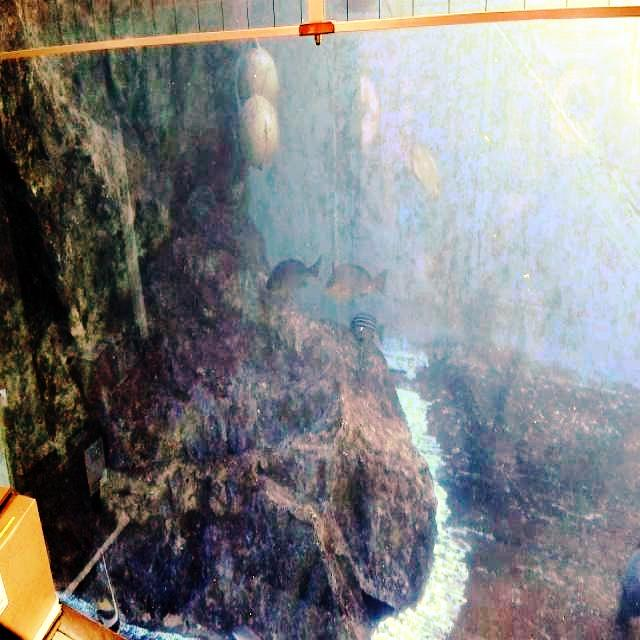Plectorhinchus lessonii: (350, 309, 388, 358)
gold snapper: (322, 254, 396, 314), (261, 244, 326, 310)
